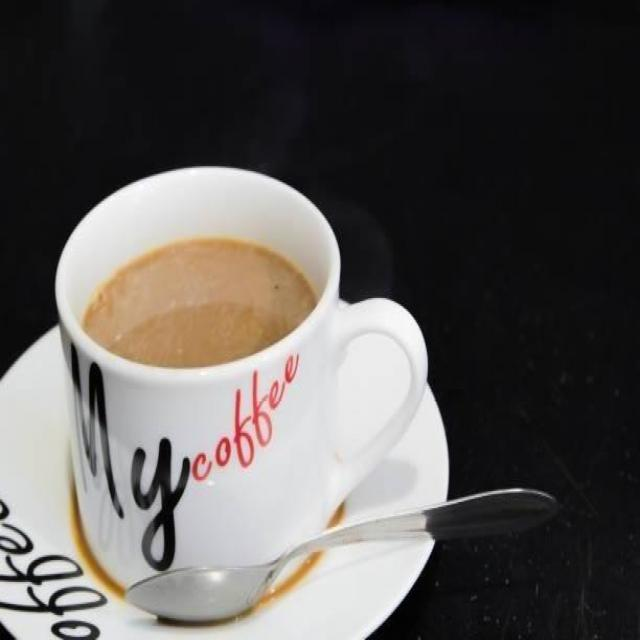cup-handle: (54, 162, 428, 624)
